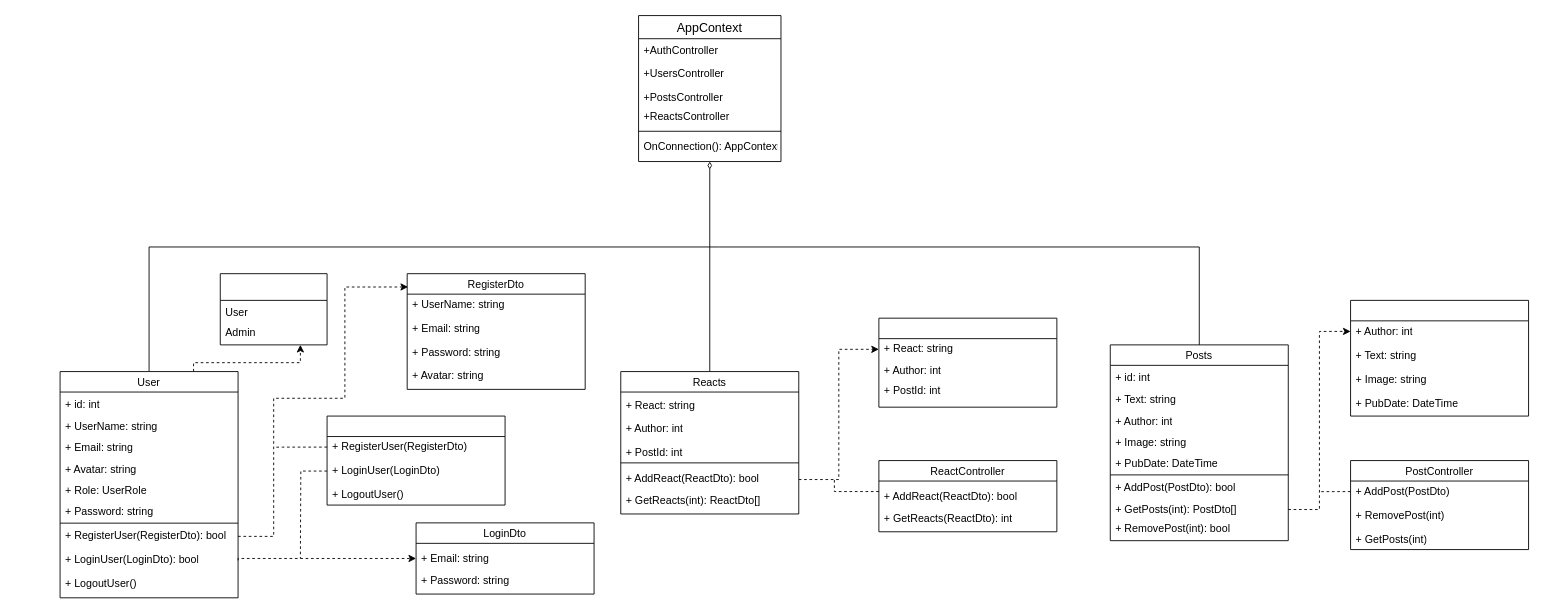
This 1544x614 diagram has some shape labels left out. The box of each missing label's shape, as (x1, y1, x2, y2) in pixels:
<<enumaration>> UserRole: (219, 273, 327, 345)
AuthController: (326, 415, 505, 505)
PostDto: (1350, 299, 1529, 416)
ReactDto: (878, 317, 1057, 407)
